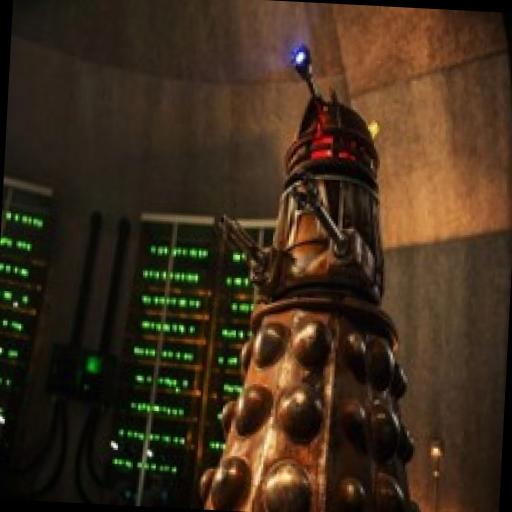dalek: (191, 37, 440, 512)
